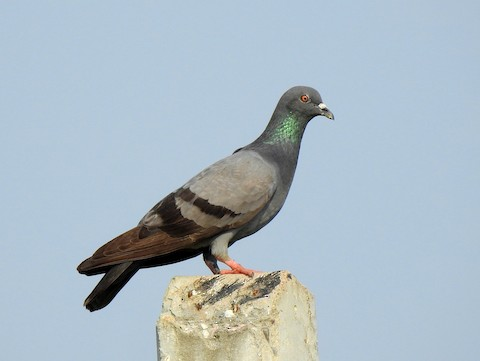pigeon: (74, 83, 338, 316)
